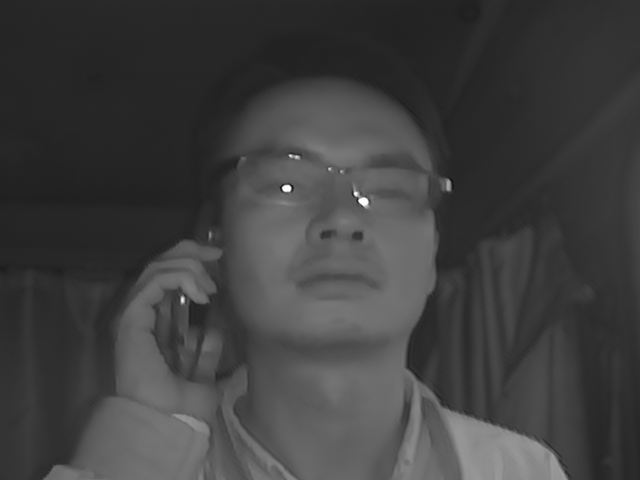hand: (101, 236, 232, 424)
